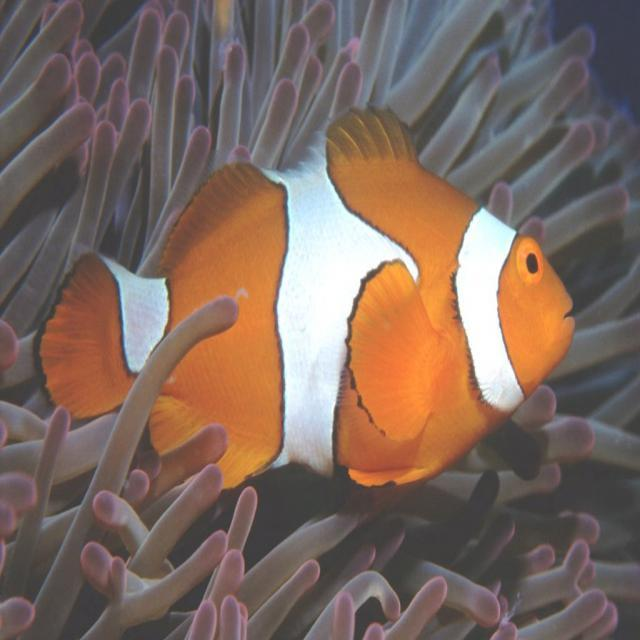ClownFish: (31, 106, 574, 487)
